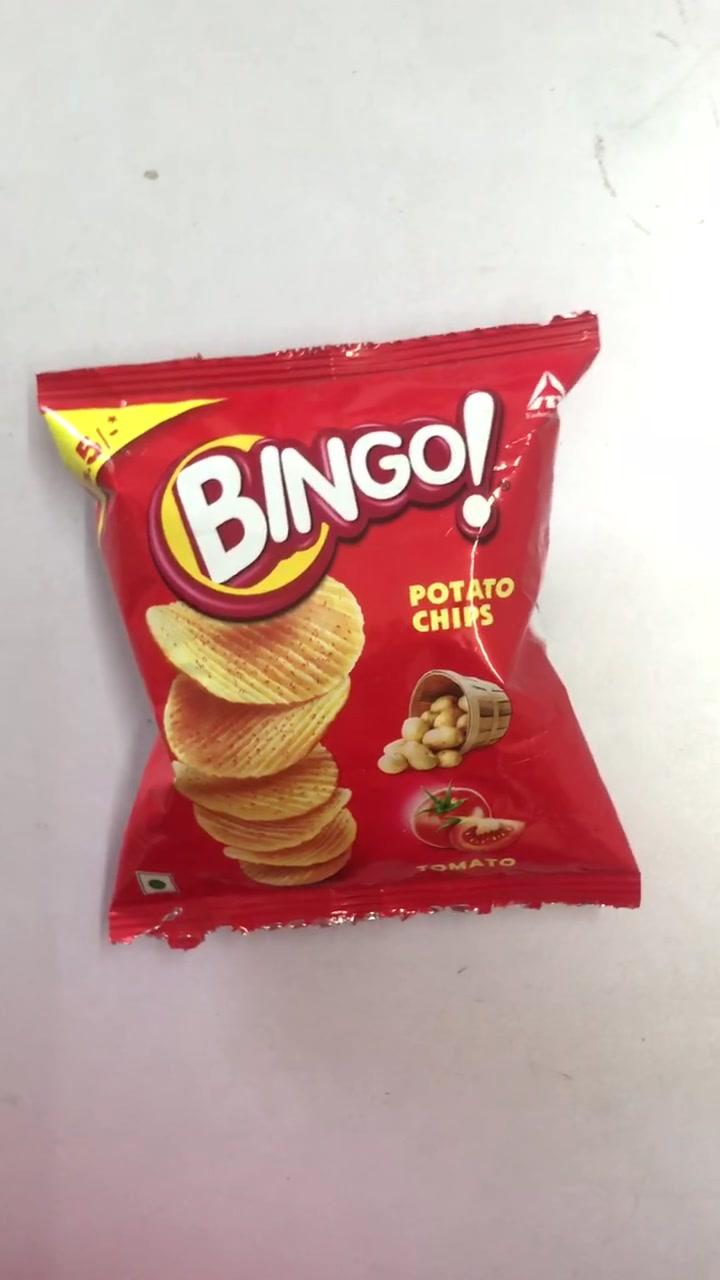Bingo: (48, 375, 641, 907)
